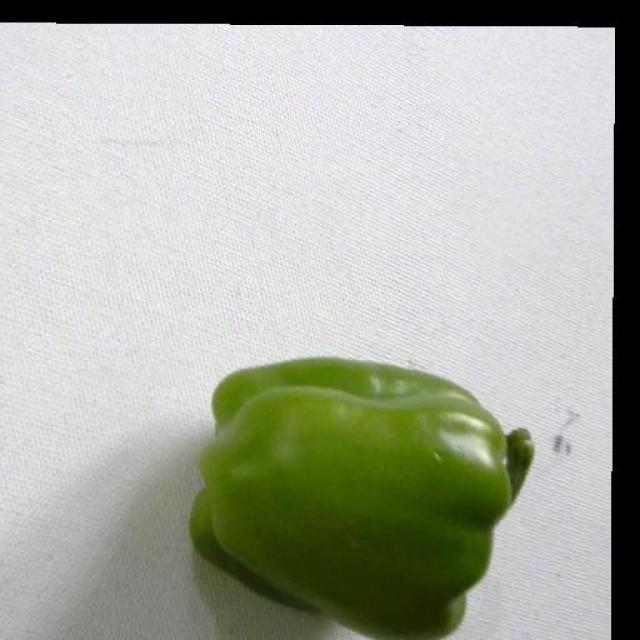Fresh_Capsicum: (181, 361, 510, 640)
